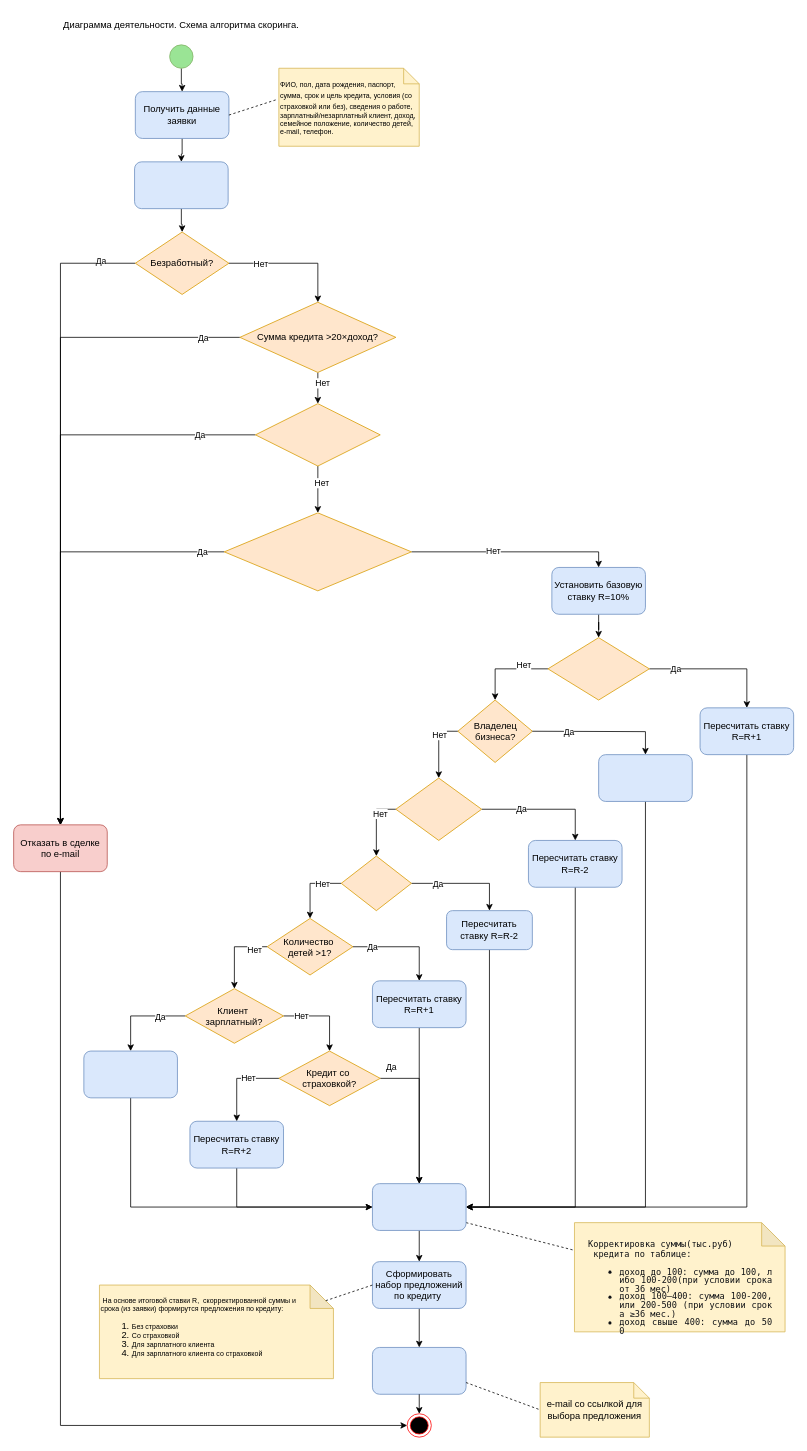
The diagram is 807 pixels wide and 1451 high, and some of its shapes have lost their labels. The centre of each missing label's shape, as x and y in pixels:
Возраст <20 или возраст>60?: the point at 317,434
Замужем/женат?: the point at 375,883
Общий стаж<12 месяцев или текущий стаж<3 месяцев?: the point at 317,551
Отправить предложения клиенту: the point at 419,1370
Оценить заемщика по анкетным данным: the point at 181,185
Пересчитать ставку R=R+3: the point at 645,777
Пересчитать ставку R=R-1: the point at 130,1074
Руководитель?: the point at 438,808
Самозанятый?: the point at 598,668
Скорректировать сумму кредита по таблице: the point at 419,1206
